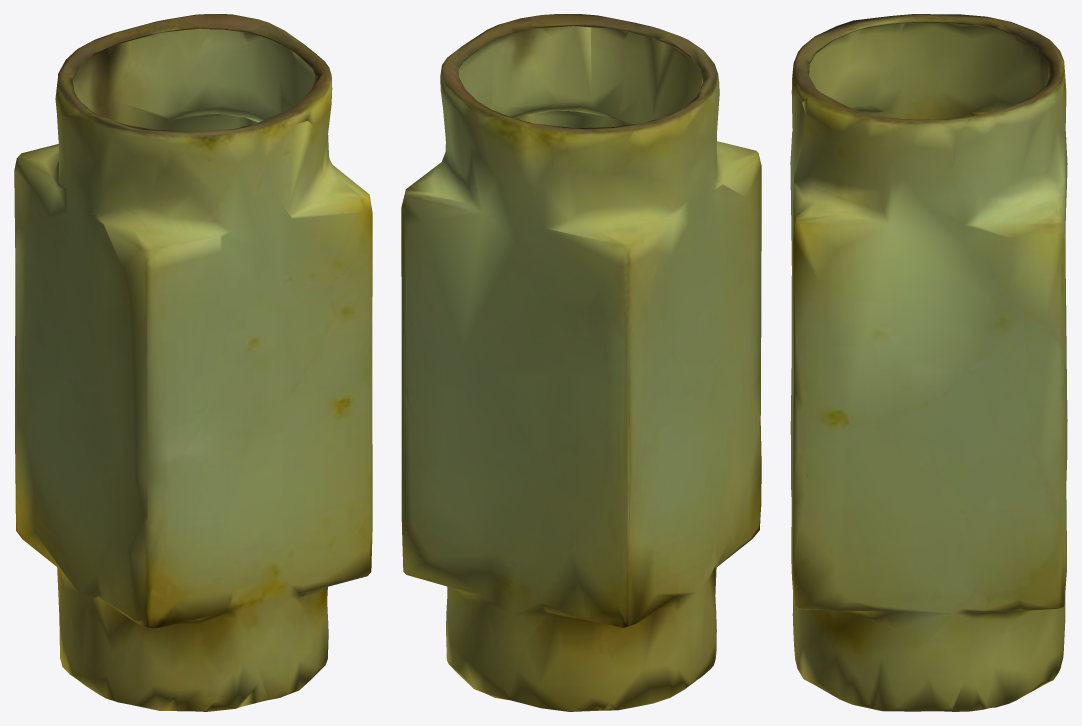
Rendered from guozhong-plain-overview.glb.
3 views of the same model, side by side, from view 1: azimuth 30°, elevation 25°; view 2: azimuth 150°, elevation 25°; view 3: azimuth 270°, elevation 25° (orthographic).
Parts seen in each view (by area): view 1: node_0; view 2: node_0; view 3: node_0.
Boxes of the visible parts, left/top/right/bottom form: node_0: left=14, top=14, right=372, bottom=711; node_0: left=401, top=14, right=761, bottom=711; node_0: left=790, top=14, right=1067, bottom=711.
Size of the model in its own units: 0.4628 by 1.1 by 0.4632.
Materials: 1 (1 with a texture image).
